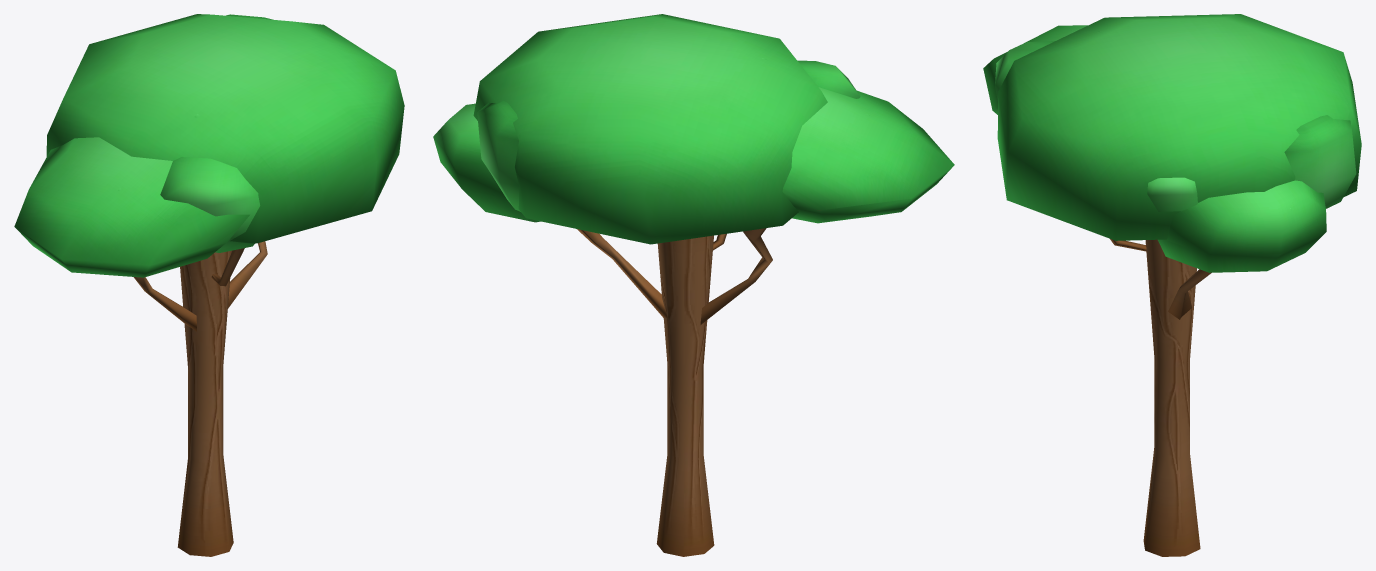
The model's file is french_tree_02.glb.
3 views of the same model, side by side, from view 1: azimuth 30°, elevation 25°; view 2: azimuth 150°, elevation 25°; view 3: azimuth 270°, elevation 25° (orthographic). The views are drawn at different scales.
Visible parts, largest first — view 1: polySurface241; view 2: polySurface241; view 3: polySurface241.
Part boxes in pixels (bbox=[...]): polySurface241: bbox=[14, 14, 404, 556]; polySurface241: bbox=[433, 14, 954, 556]; polySurface241: bbox=[983, 14, 1361, 556].
Size of the model in its own units: 3.21 by 3.63 by 2.45.
Materials: 1 (1 with a texture image).
